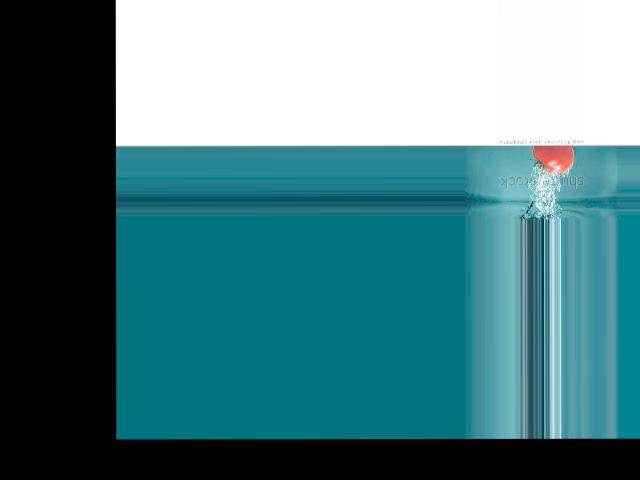tomato: (531, 144, 573, 173)
